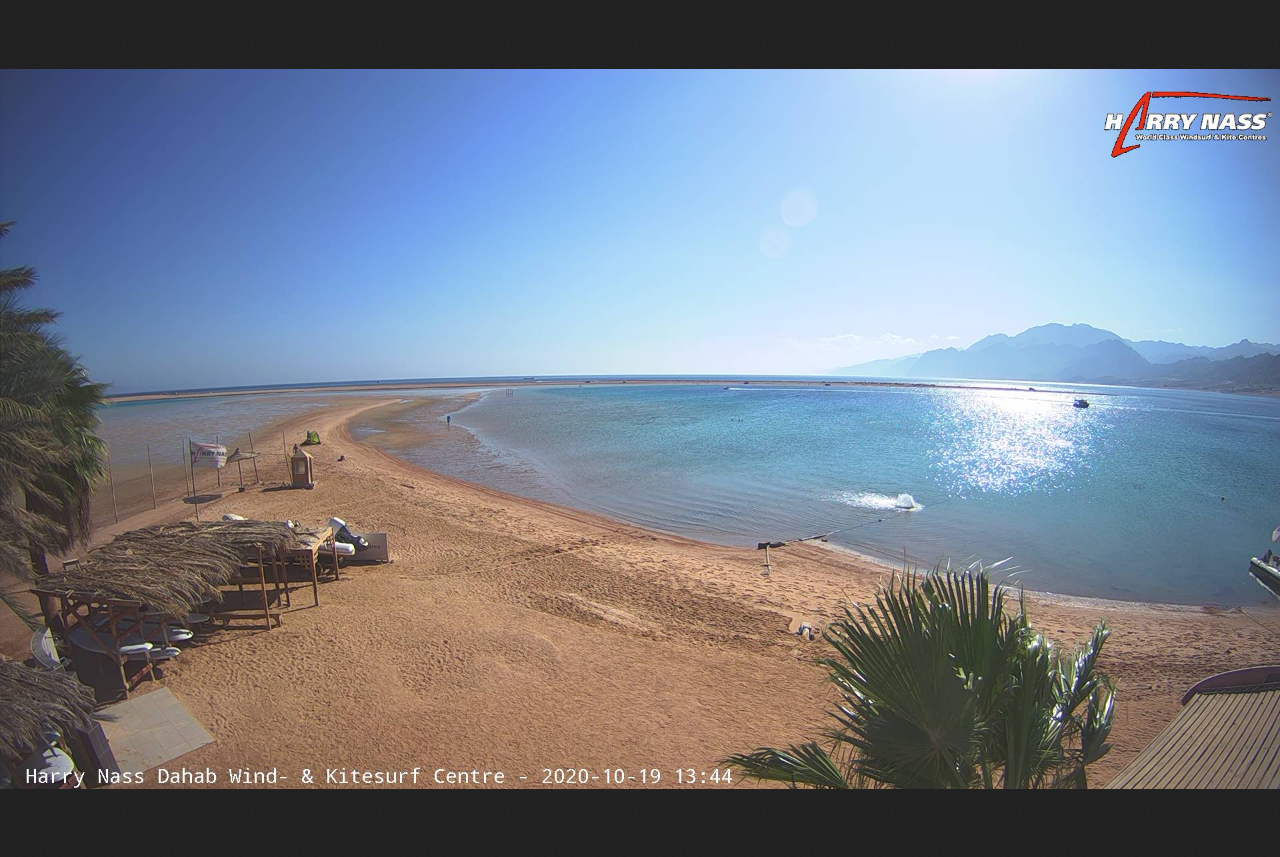yes: (181, 438, 229, 473)
